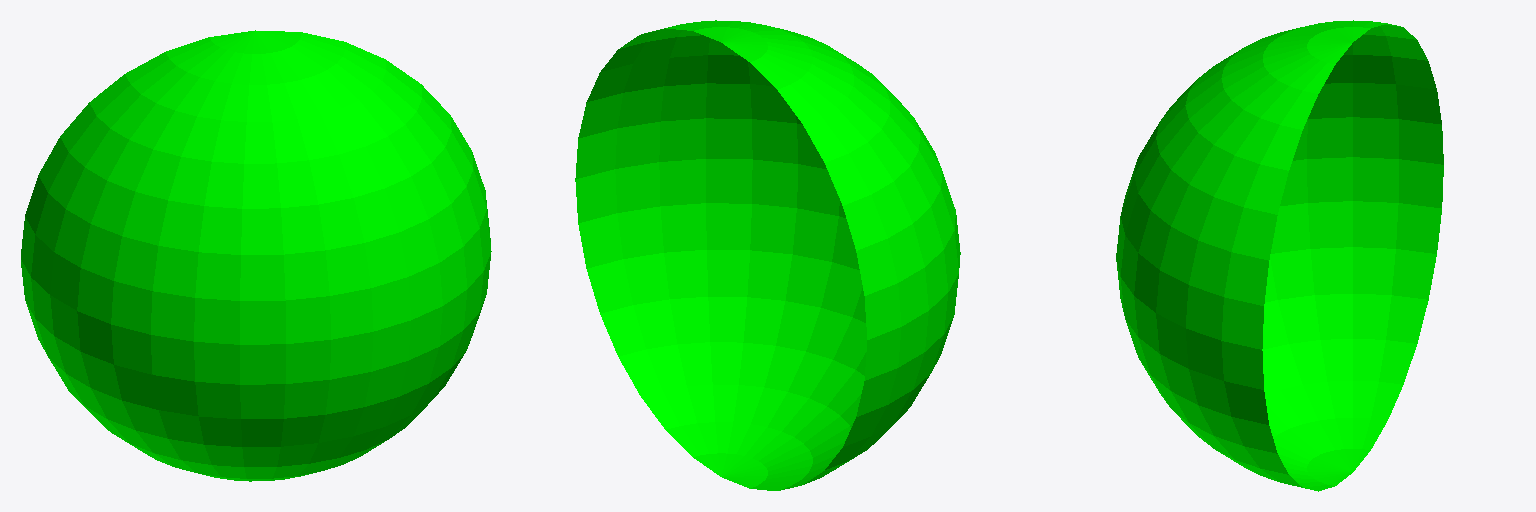
robot.urdf — half_sphere:
<?xml version="0.0" ?>
<robot name="half_sphere">
    <material name="green">
        <color rgba="0 1 0 0.1"/>
    </material>

    <link name="baseLink">
        <inertial>
            <origin rpy="0 0 0" xyz="0 0 0"/>
            <mass value="0.0"/>
            <inertia ixx="1" ixy="0" ixz="0" iyy="1" iyz="0" izz="1"/>
        </inertial>
        <visual>
            <origin rpy="0 0 0" xyz="0 0 0"/>
            <geometry>
                <mesh filename="meshes/half_sphere.stl" scale="0.02 0.02 0.02"/>
            </geometry>
            <material name="green"/>
        </visual>
    </link>
</robot>

--- What the picture shows (computed from the rendered views, not written in the file) ---
The picture shows the robot from 3 angles, left to right: view 1: azimuth 30°, elevation 25°; view 2: azimuth 150°, elevation 25°; view 3: azimuth 270°, elevation 25°; orthographic projection.
Robot: half_sphere — 1 links, 0 joints (none); root link baseLink; default pose: every joint at zero.
Visible links, largest first — view 1: baseLink; view 2: baseLink; view 3: baseLink.
Link boxes in pixels (x1=…): baseLink: x1=21, y1=30, x2=491, y2=481; baseLink: x1=575, y1=20, x2=960, y2=490; baseLink: x1=1116, y1=20, x2=1443, y2=491.
Size in the robot's own frame: 0.0385 by 0.0277 by 0.04 metres.
Meshes: 1 distinct files referenced, 1 mesh visuals loaded (1 binary STL).